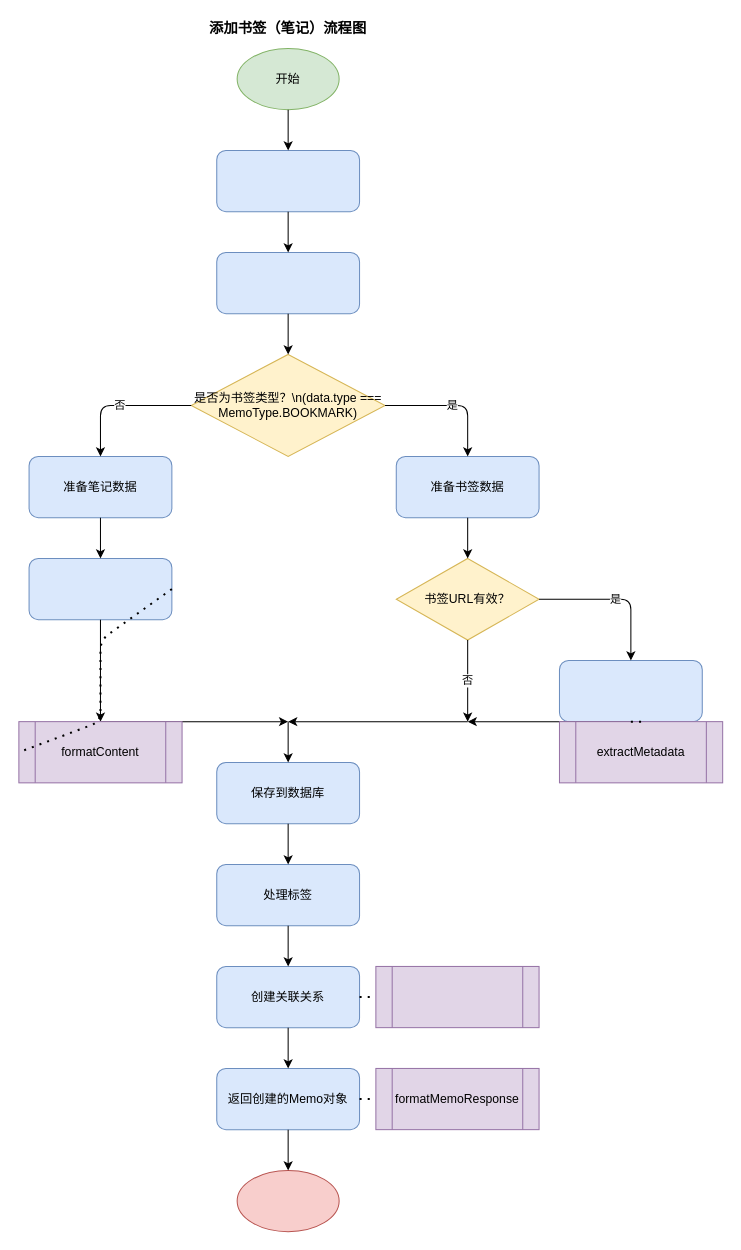
This 741x1250 diagram has some shape labels left out. The centre of each missing label's shape, as x and y in pixels:
"createTagRelations" goes at point 457,996.
"处理笔记内容" goes at point 100,588.
"接收CreateMemoDto" goes at point 288,180.
"结束" goes at point 287,1200.
"获取网页元数据" goes at point 630,690.
"验证数据有效性" goes at point 288,282.
